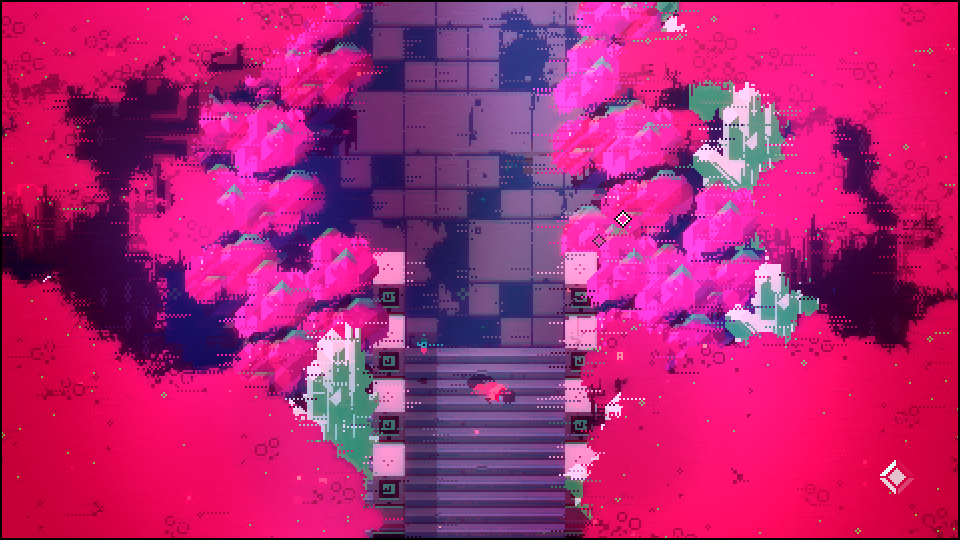player: (465, 369, 514, 405)
